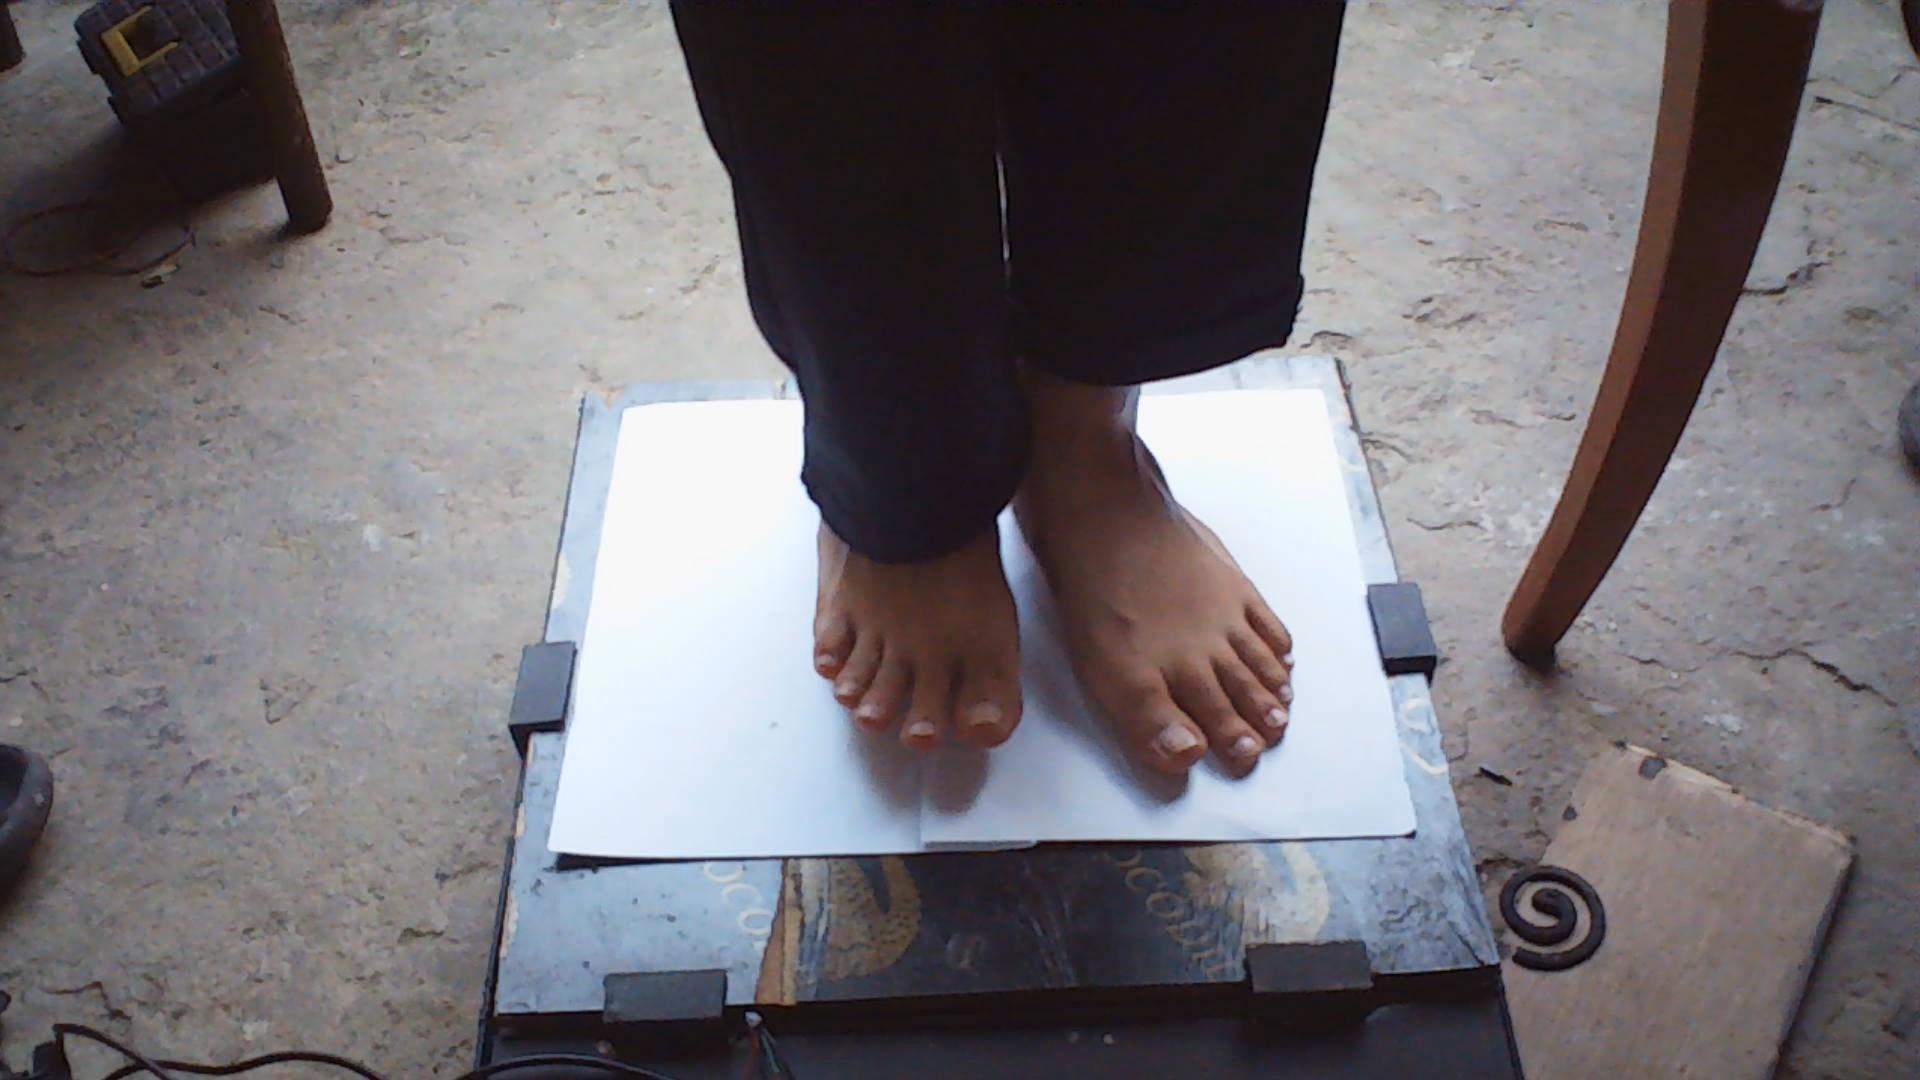Bare_feet: (1021, 398, 1300, 806), (800, 513, 1019, 787)
